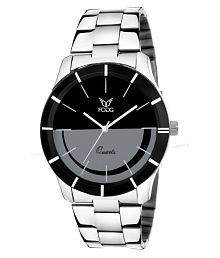clock: (38, 62, 172, 199)
